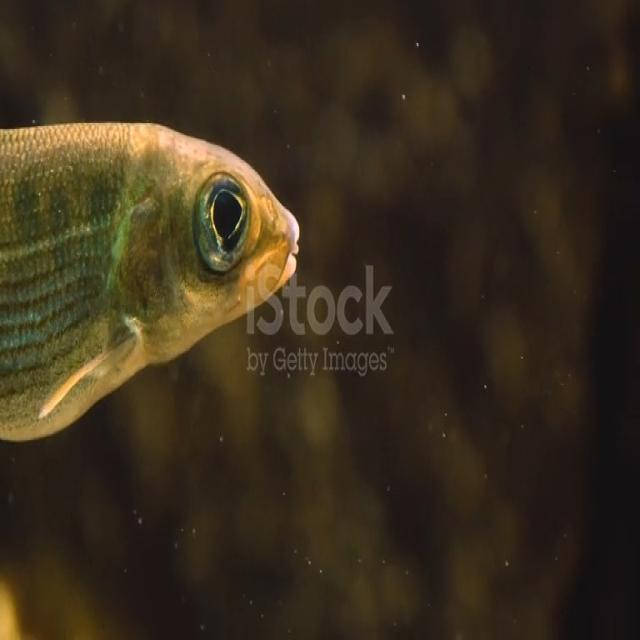fish: (0, 114, 313, 444)
